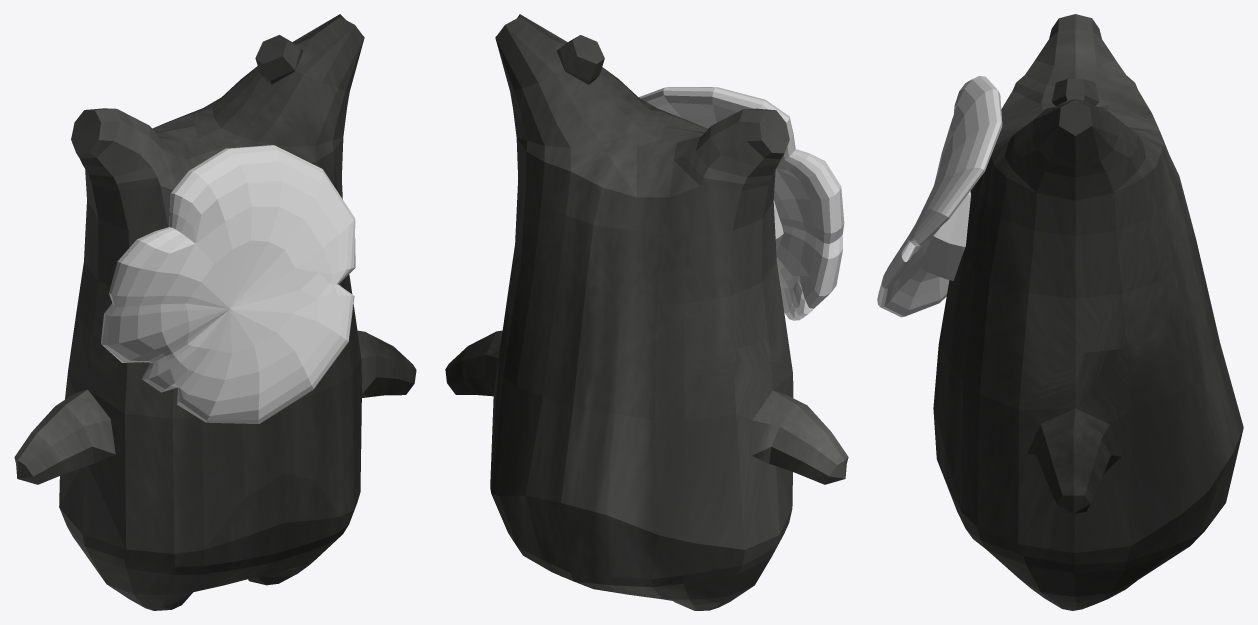
The model's file is frame_0031.obj.
The picture shows the model from 3 angles, left to right: view 1: azimuth 30°, elevation 25°; view 2: azimuth 150°, elevation 25°; view 3: azimuth 270°, elevation 25°; orthographic projection.
Parts seen in each view (by area): view 1: korok, leaf; view 2: korok, leaf; view 3: korok, leaf, nose.
Part boxes in pixels (x1,y1,x2,y2): korok: (14,14,416,610); leaf: (101,145,355,423); korok: (445,14,848,610); leaf: (638,87,844,320); korok: (933,14,1243,610); leaf: (877,76,1002,317); nose: (918,191,970,280).
Bounding box in the file's own units: 1.71 × 2.25 × 1.38.
